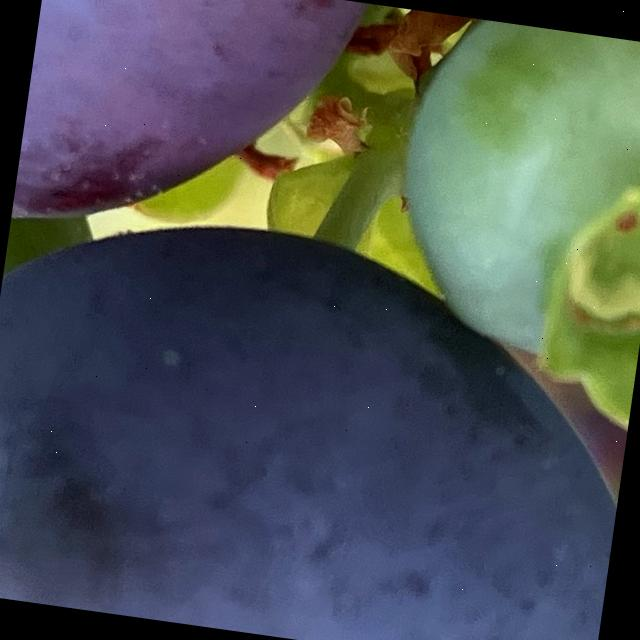Blueberries: (0, 195, 640, 640), (362, 10, 640, 446), (10, 0, 416, 277)
